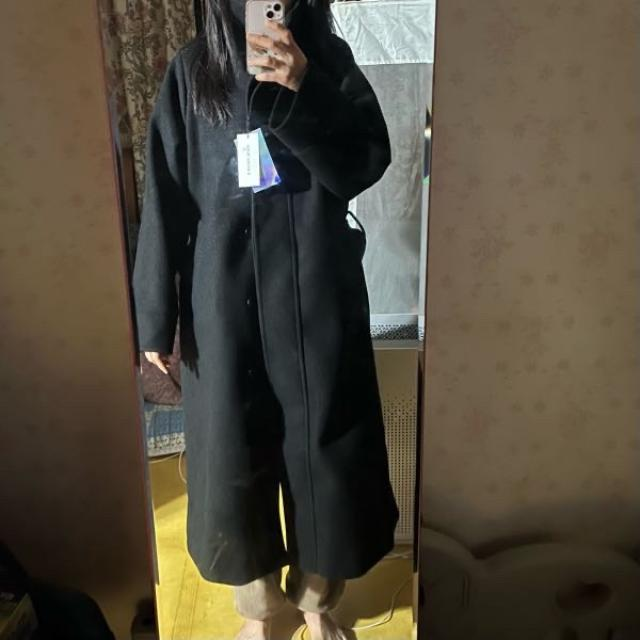coat: (134, 24, 400, 584)
